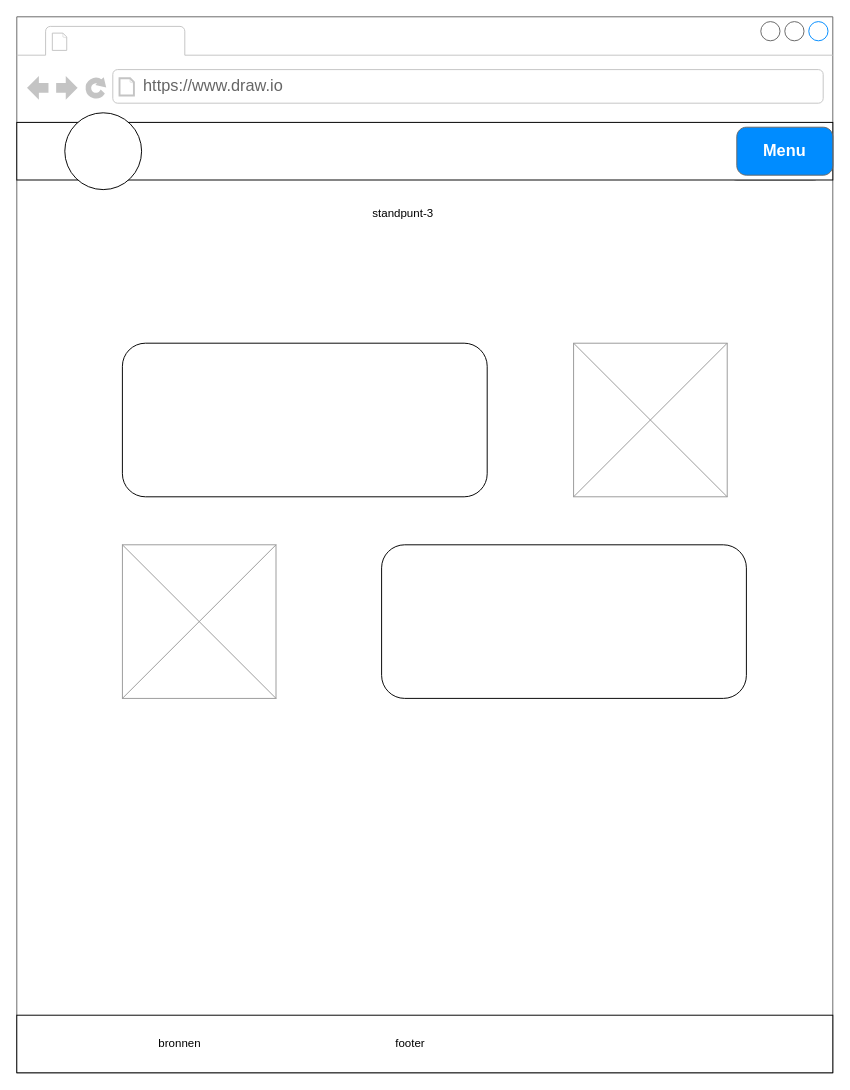
The diagram is 850 pixels wide and 1090 high, and some of its shapes have lost their labels. Here are the shapes that lost their labels. From the top down, the centre of each, then its label:
the point at 126,40: Page 1
the point at 103,151: logo
